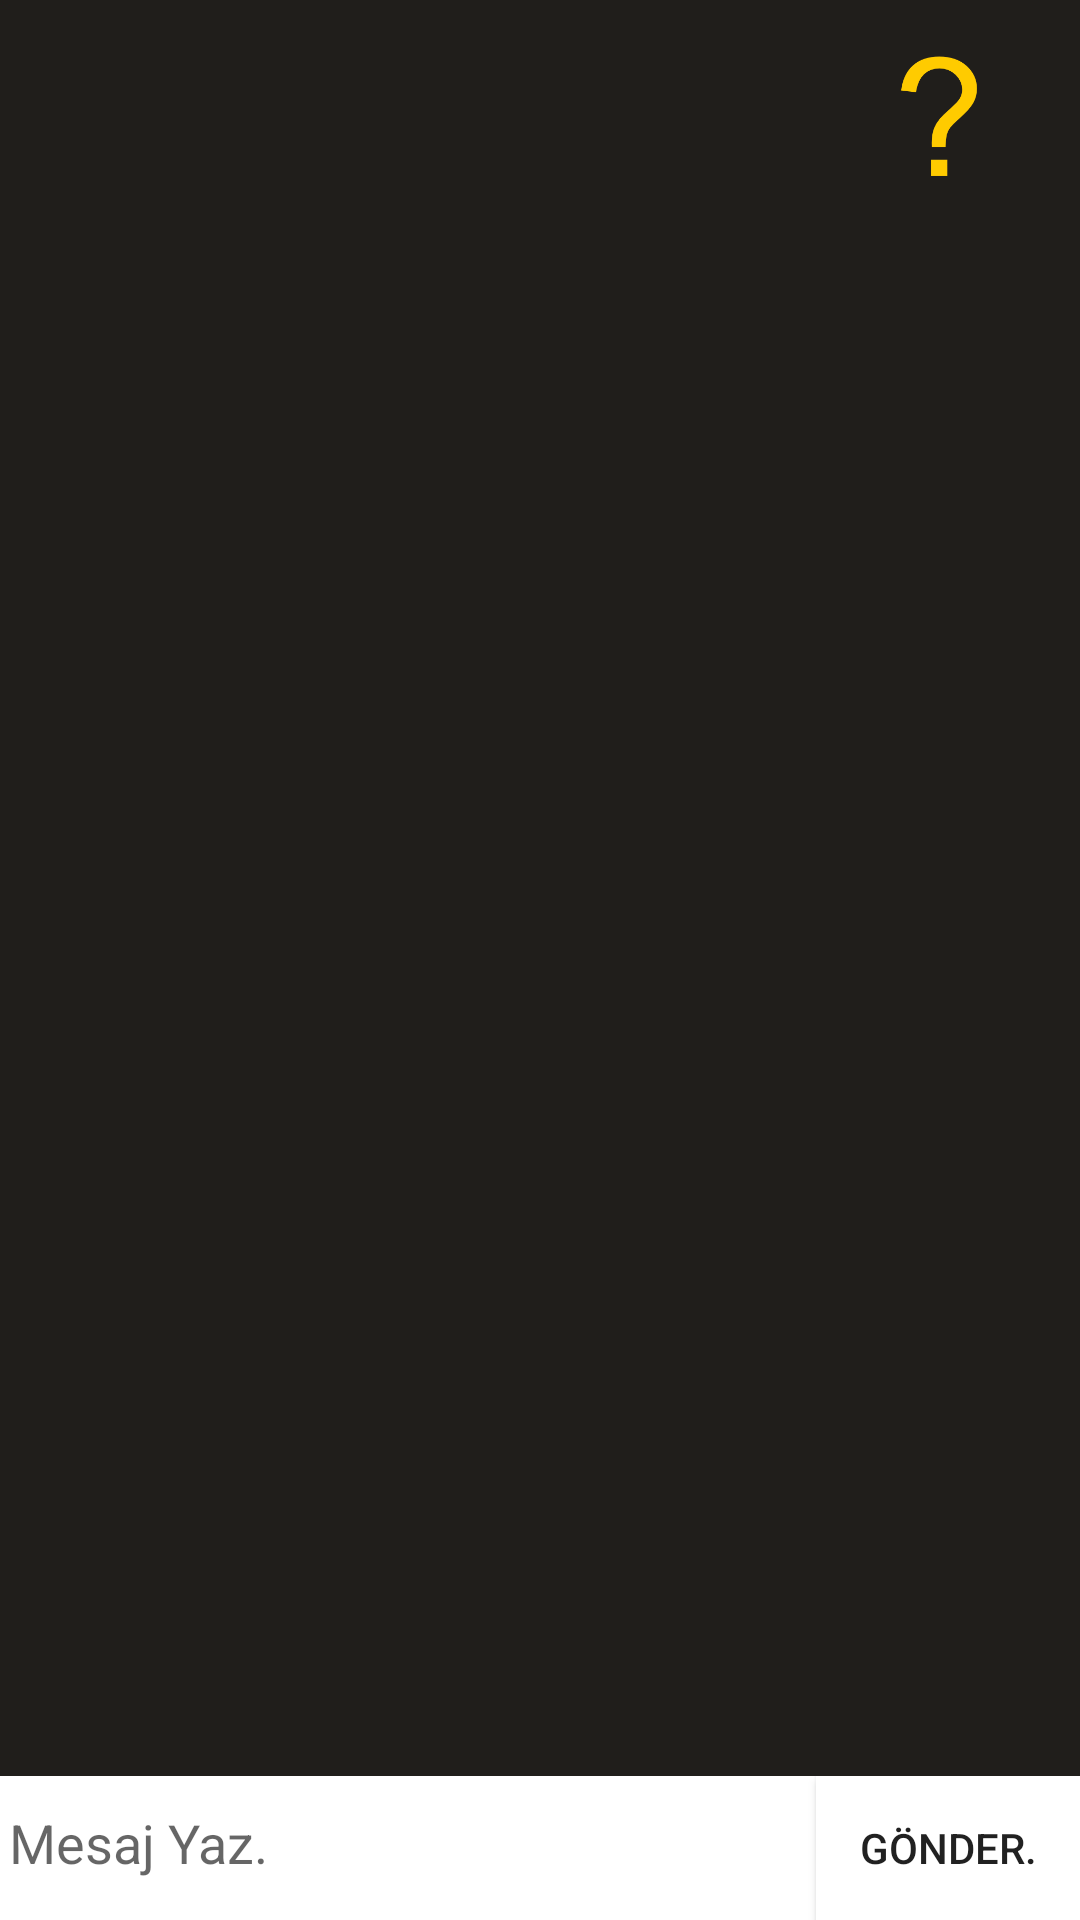

Named icons in this screenshot (1080*1920) and their centers, [x,y]:
soru isareti: [939,116]
